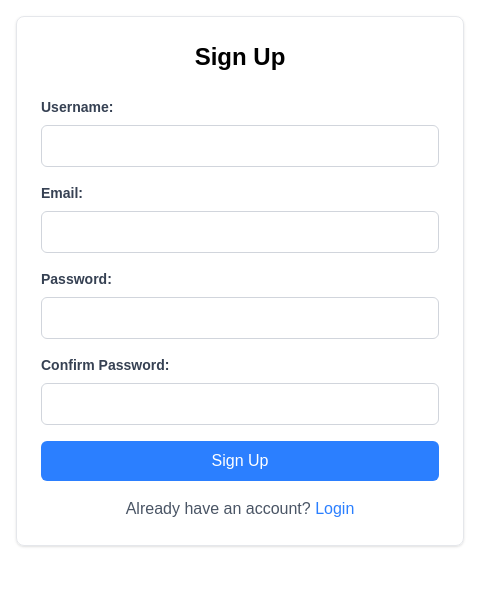
Signup Component › displays error message on registration failure
The image size is (481, 604).
Type "testuser" into the field below "Username:" at (240, 146), box [41, 125, 439, 167]
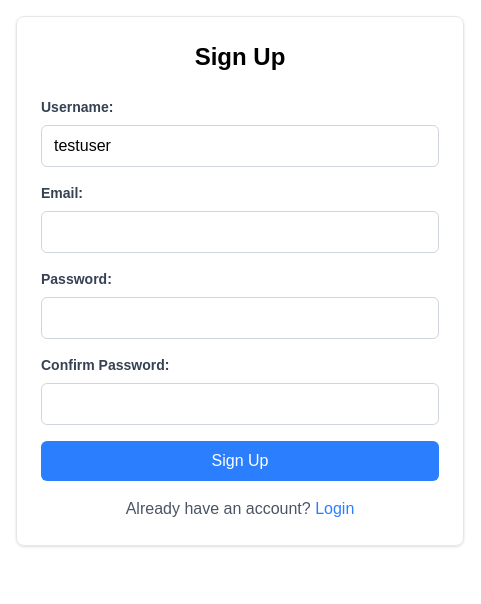
Type "test@example.com" into the field below "Email:" at (240, 232), box [41, 211, 439, 253]
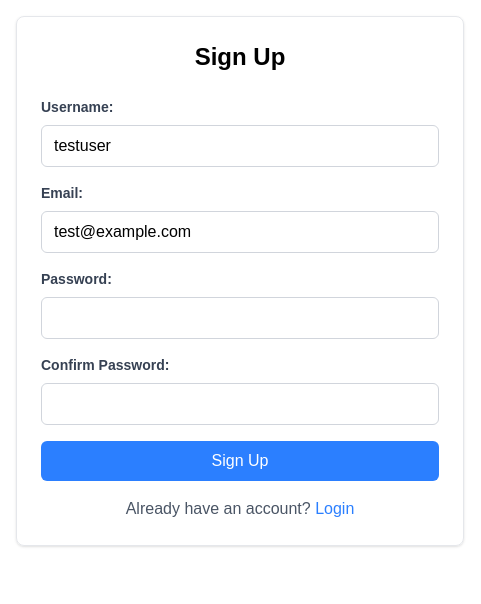
Type "testpass" into the 1st password field at (240, 318), box [41, 297, 439, 339]
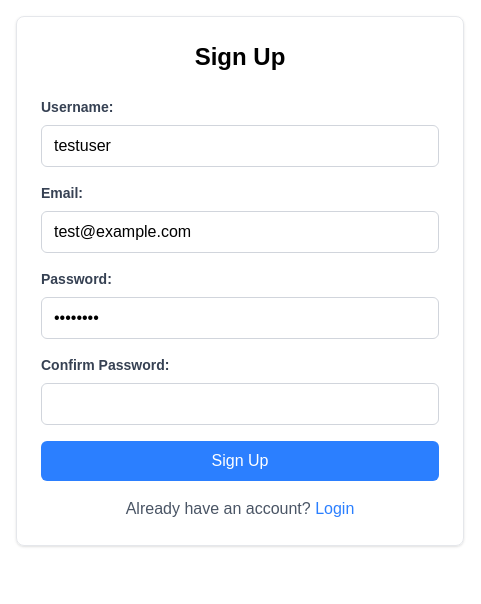
Type "testpass" into the password field below "Confirm Password:" at (240, 404), box [41, 383, 439, 425]
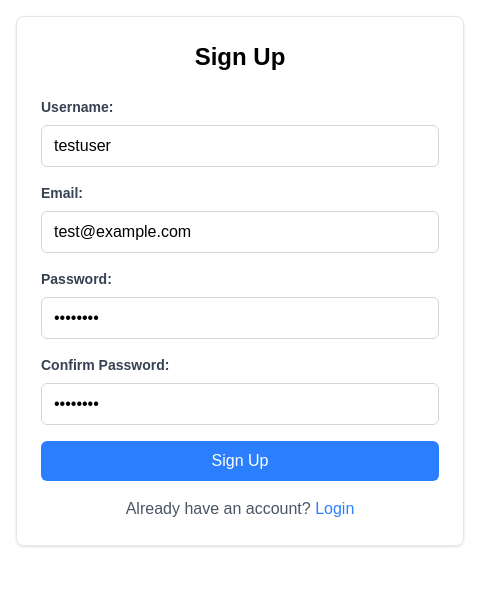
Click the button "Sign Up" at (240, 461), box [41, 441, 439, 481]
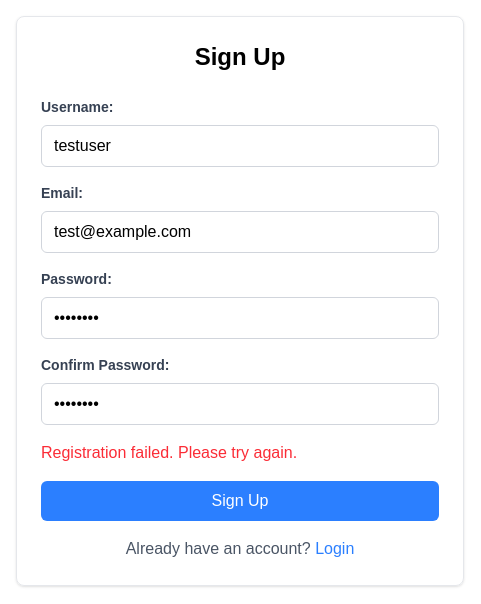
Result: the text "Registration failed. Please try again." is shown at [41, 444, 297, 461]
